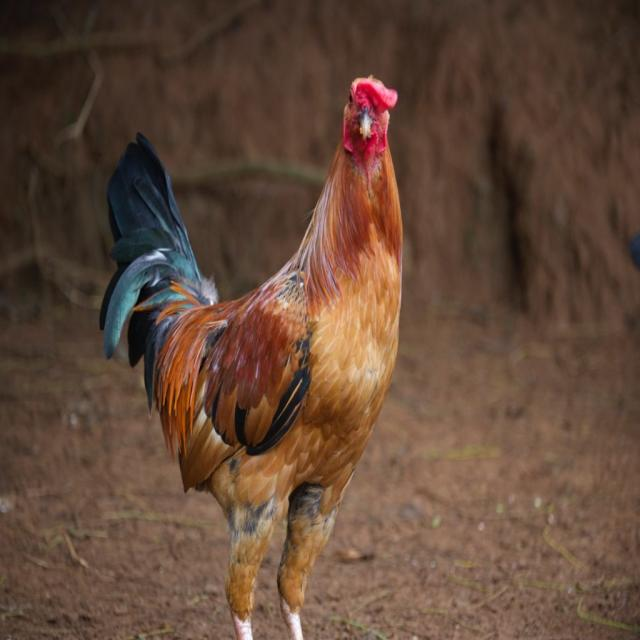Chicken: (99, 74, 403, 640)
